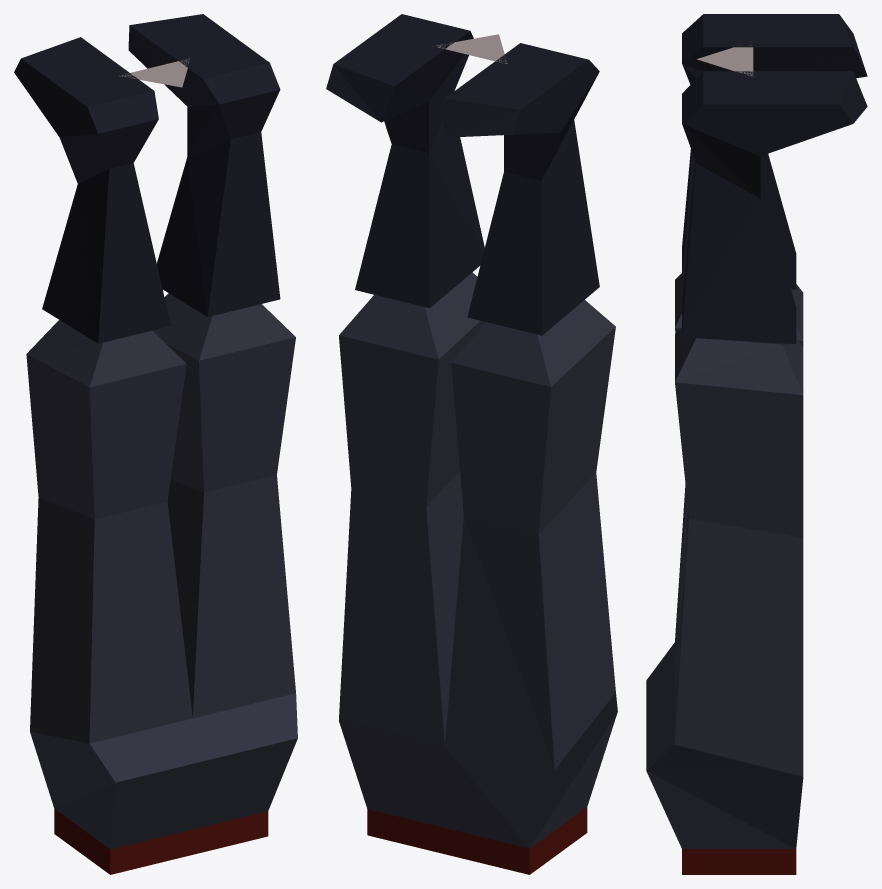
The picture shows the model from 3 angles, left to right: view 1: azimuth 30°, elevation 25°; view 2: azimuth 150°, elevation 25°; view 3: azimuth 270°, elevation 25°; orthographic projection. The views are drawn at different scales.
Size of the model in its own units: 0.2656 by 0.9375 by 0.2422.
